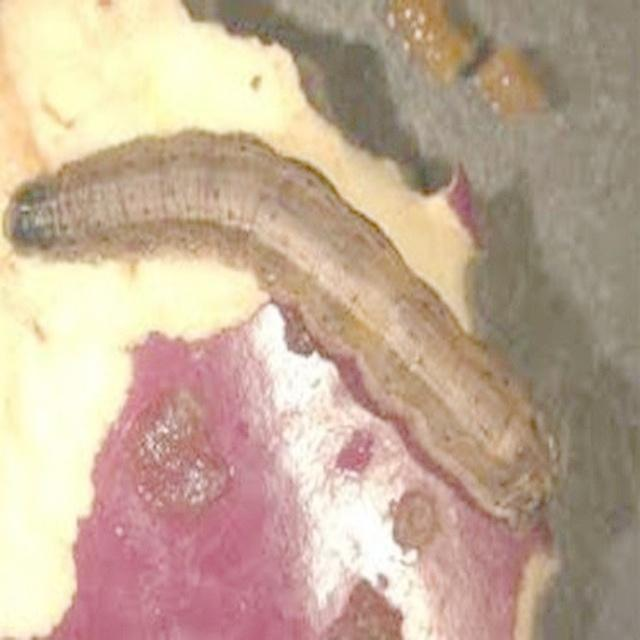gusano_cogollero: (11, 128, 566, 534)
